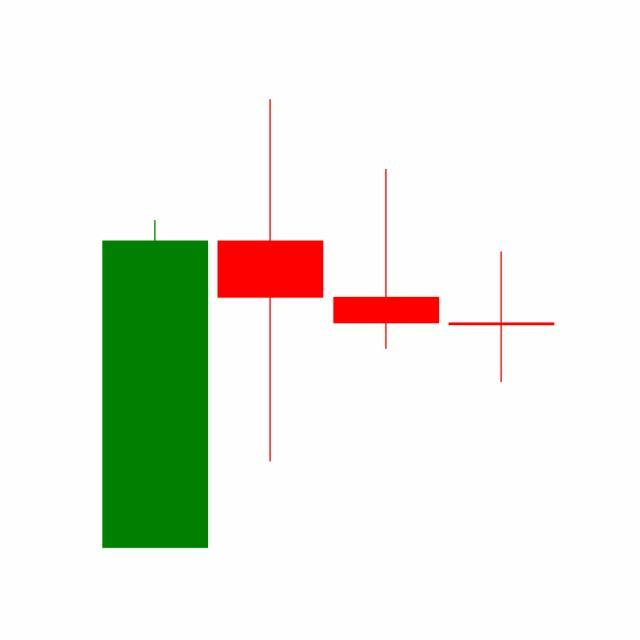Gravestone Doji: (329, 167, 445, 351)
